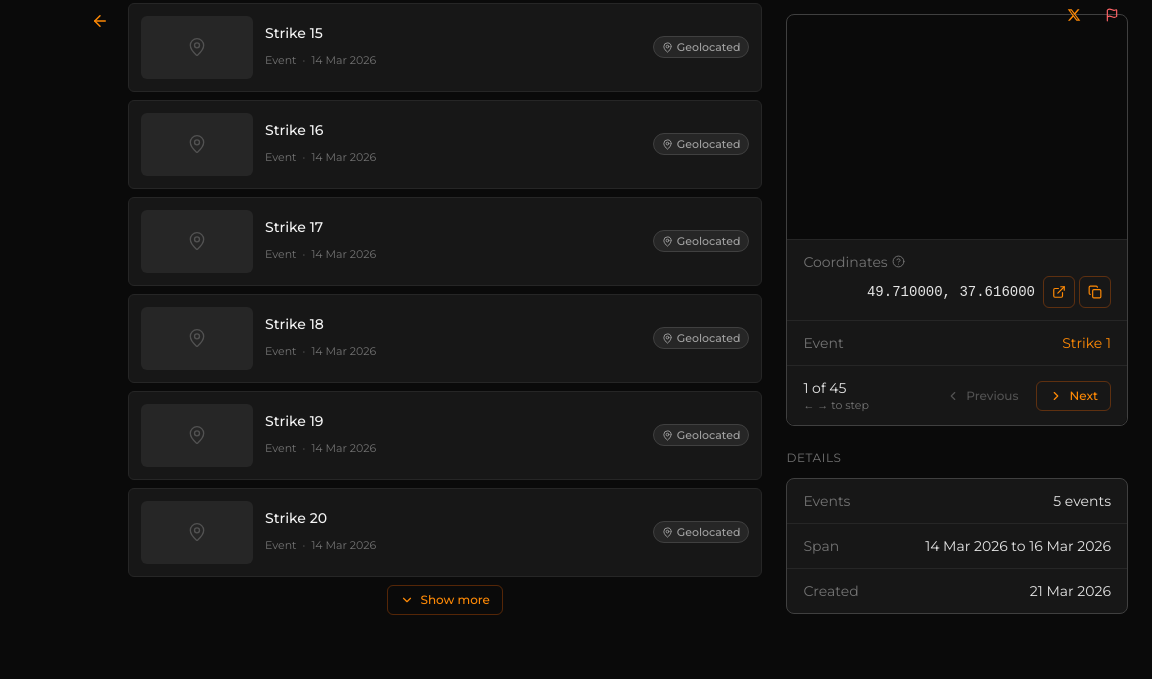
Test: CollectionPage › a long collection › lists the events 20 at a time behind Show more
(page scrolled)
Click the button "Show more" at (445, 600), box [387,585,503,615]
(page scrolled)
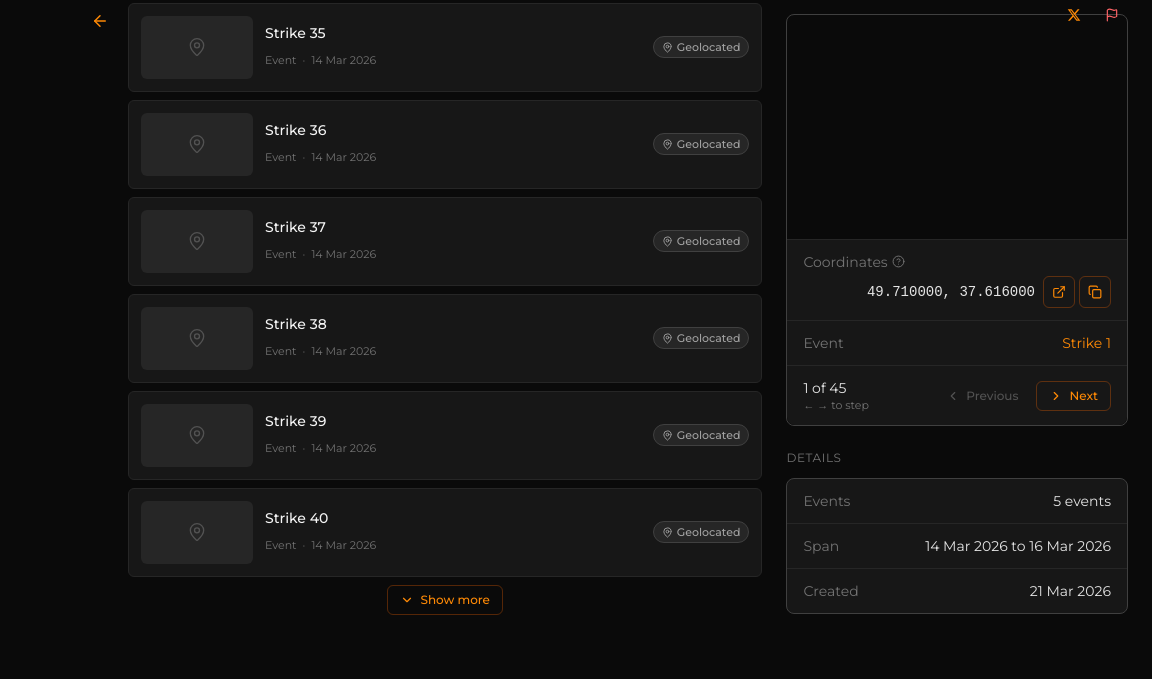
Click the button "Show more" at (445, 600), box [387,585,503,615]
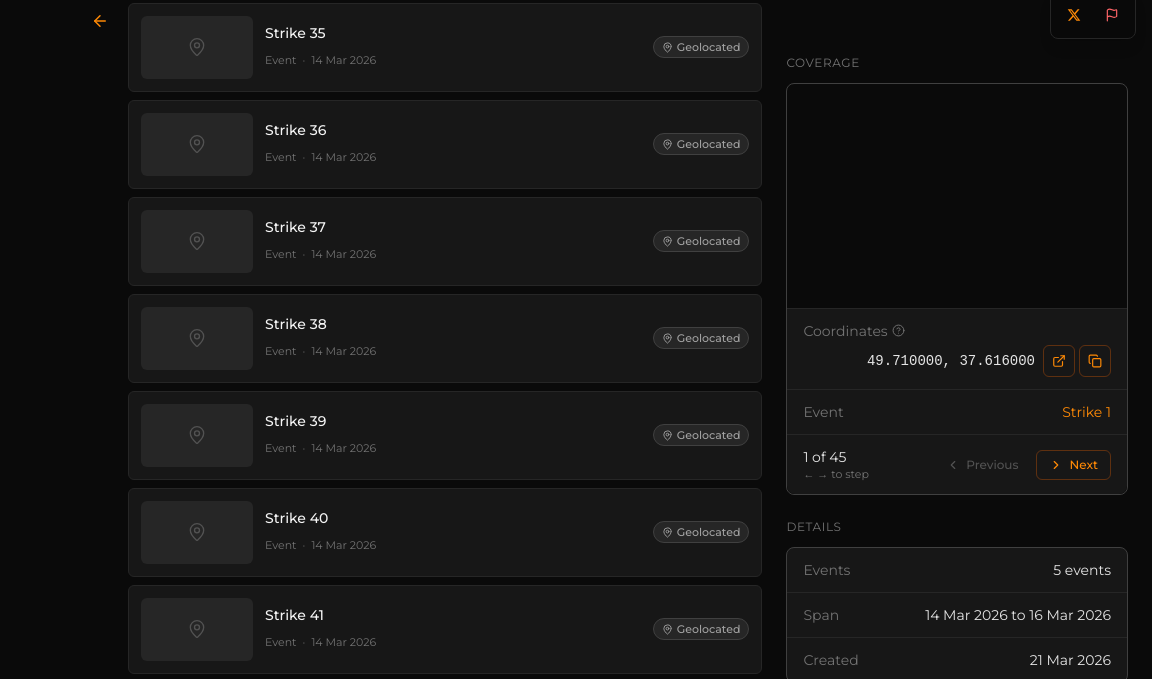
Check: the button "Show more" is gone
